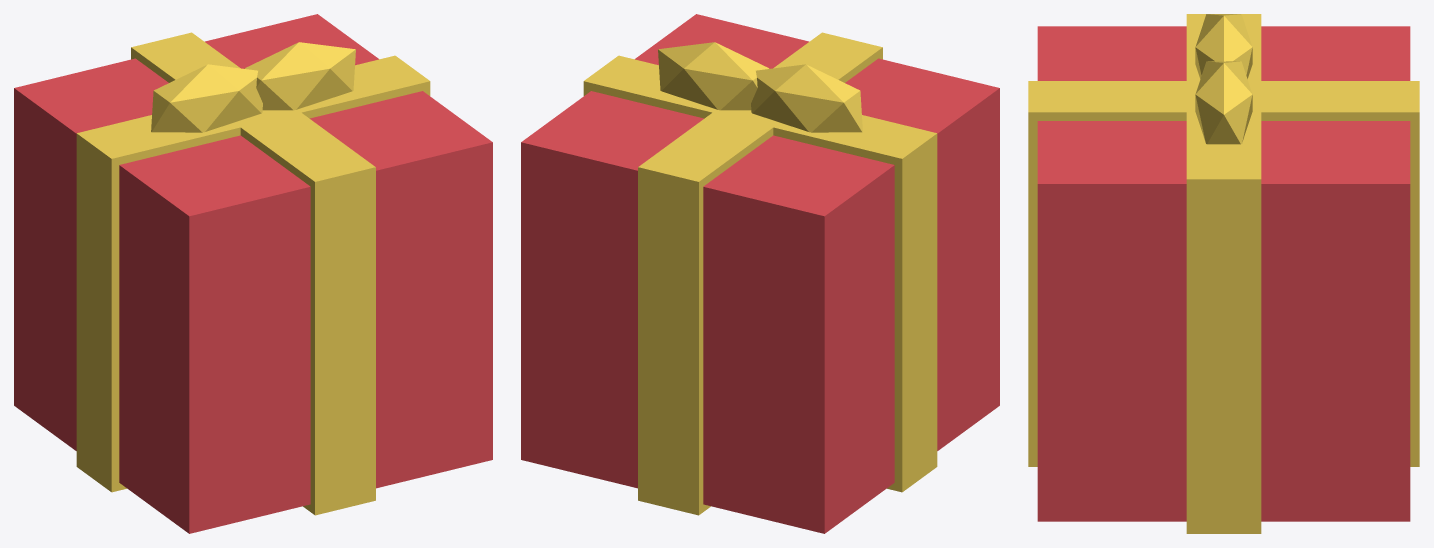
Rendered from Regalo.fbx.
3 views of the same model, side by side, from view 1: azimuth 30°, elevation 25°; view 2: azimuth 150°, elevation 25°; view 3: azimuth 270°, elevation 25° (orthographic). The views are drawn at different scales.
Parts seen in each view (by area): view 1: Caja, ListonY, ListonX, Mono1, Mono0; view 2: Caja, ListonY, ListonX, Mono1, Mono0; view 3: Caja, ListonX, ListonY, Mono0, Mono1.
Boxes of the visible parts, bbox=[...] form: Caja: bbox=[14, 14, 492, 533]; ListonY: bbox=[131, 32, 375, 515]; ListonX: bbox=[76, 55, 430, 492]; Mono1: bbox=[151, 64, 262, 132]; Mono0: bbox=[244, 42, 355, 110]; Caja: bbox=[521, 14, 999, 533]; ListonY: bbox=[638, 32, 882, 515]; ListonX: bbox=[583, 55, 937, 492]; Mono1: bbox=[751, 64, 862, 132]; Mono0: bbox=[658, 42, 769, 110]; Caja: bbox=[1037, 26, 1410, 521]; ListonX: bbox=[1186, 14, 1261, 533]; ListonY: bbox=[1028, 81, 1419, 466]; Mono0: bbox=[1195, 61, 1252, 144]; Mono1: bbox=[1195, 14, 1252, 78].
Size of the model in its own units: 0.42 by 0.488 by 0.42.
